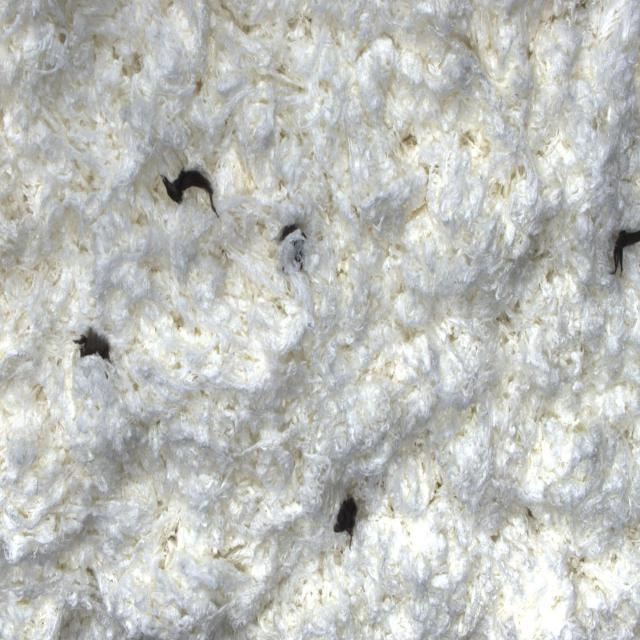dust: (156, 128, 221, 235), (319, 469, 370, 569), (273, 190, 317, 301), (597, 201, 640, 297), (62, 323, 124, 369)
